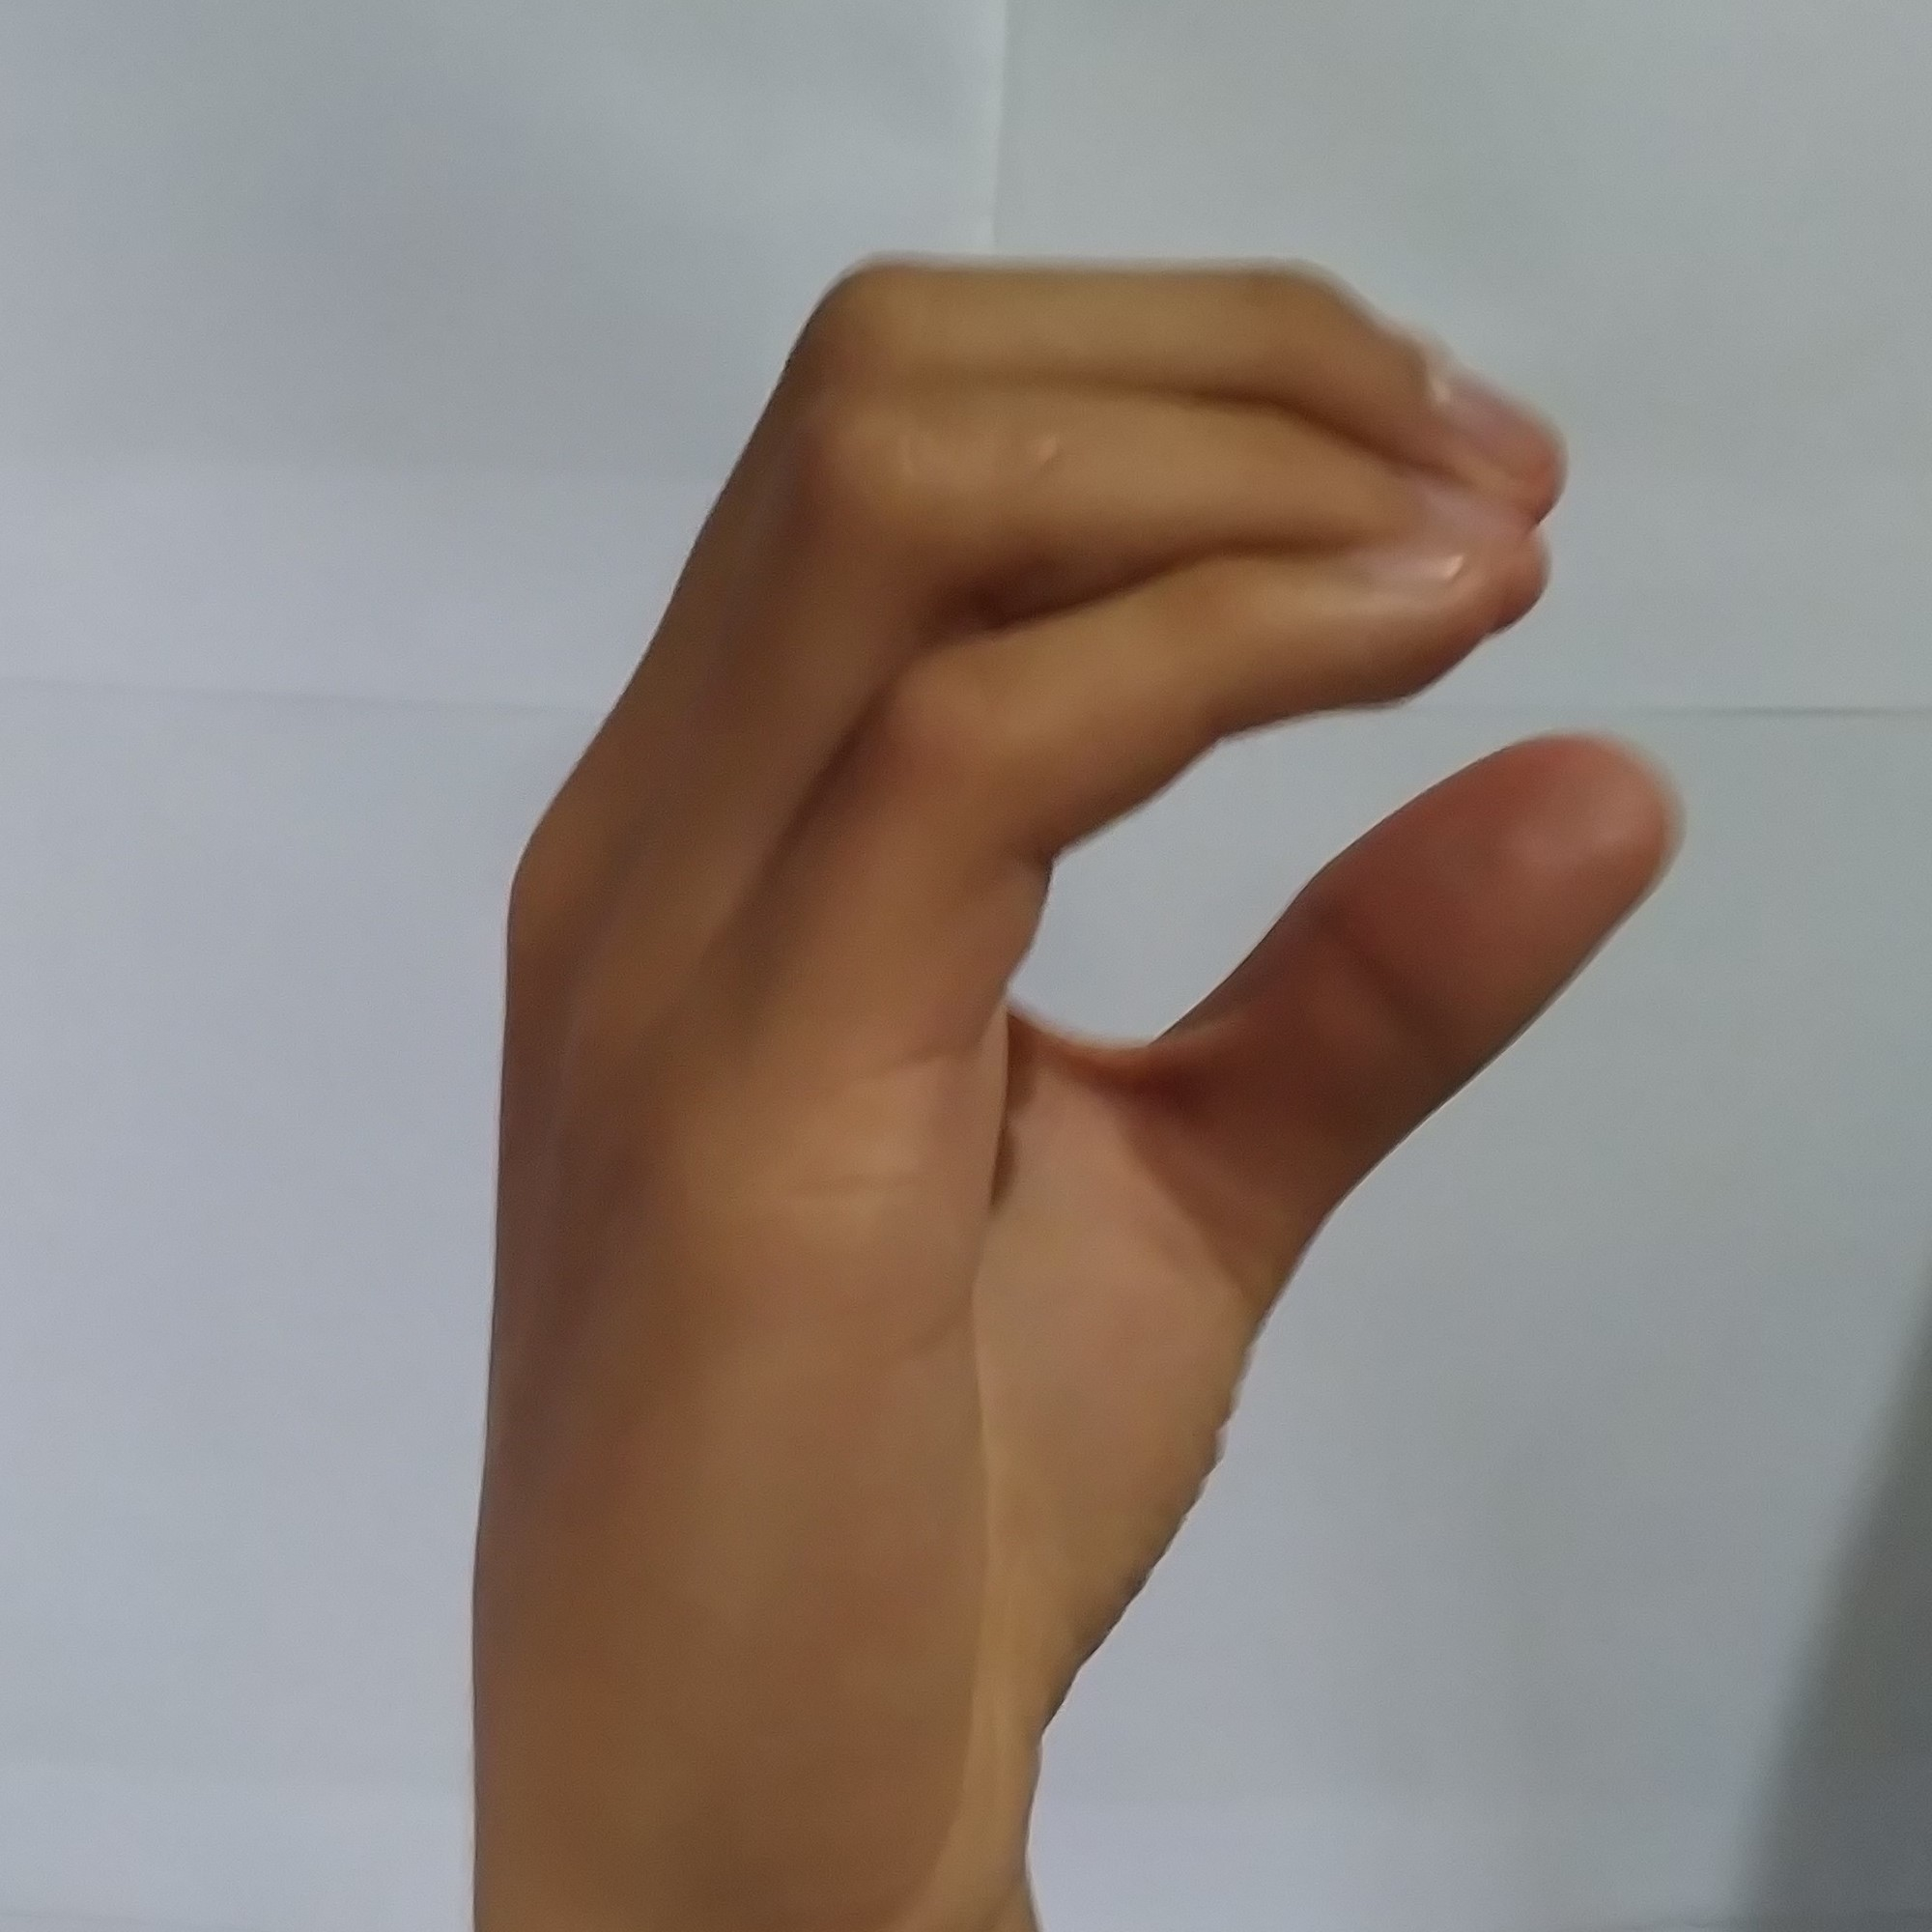C: (464, 223, 1702, 1771)
